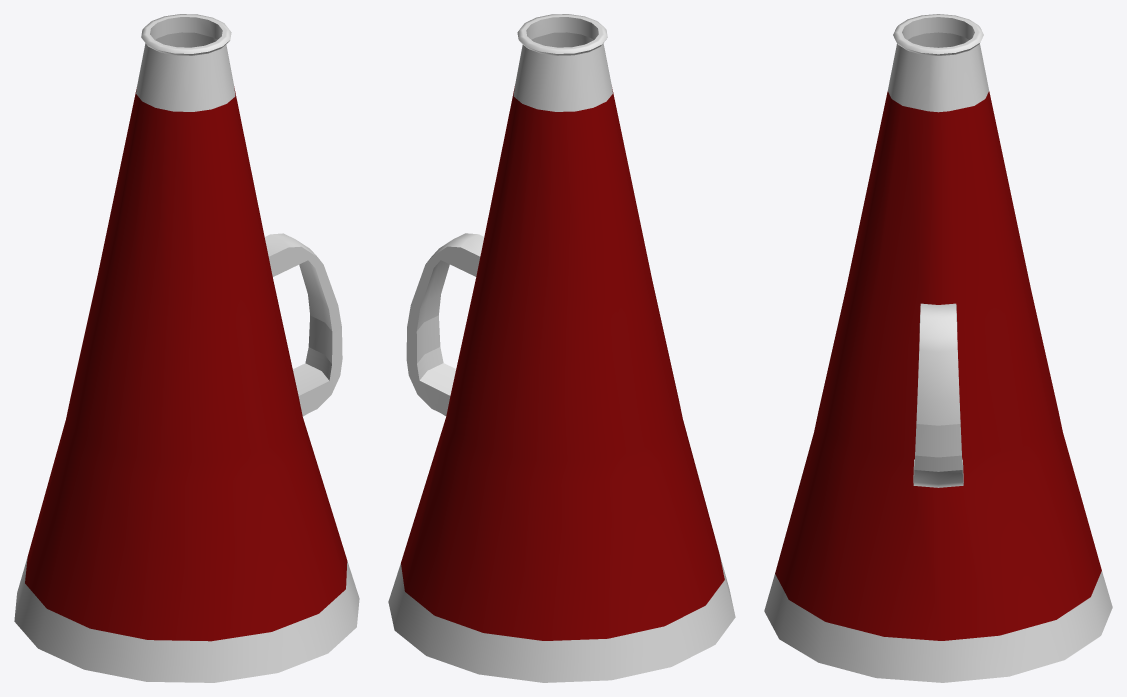
The model's file is MagicTube.glb.
3 views of the same model, side by side, from view 1: azimuth 30°, elevation 25°; view 2: azimuth 150°, elevation 25°; view 3: azimuth 270°, elevation 25° (orthographic).
Parts seen in each view (by area): view 1: Cylinder.004; view 2: Cylinder.004; view 3: Cylinder.004.
Part boxes in pixels (left/top/right/bottom): Cylinder.004: left=14, top=14, right=359, bottom=682; Cylinder.004: left=388, top=14, right=735, bottom=682; Cylinder.004: left=764, top=14, right=1112, bottom=682.
Bounding box in the file's own units: 1.94 × 3.54 × 1.94.
